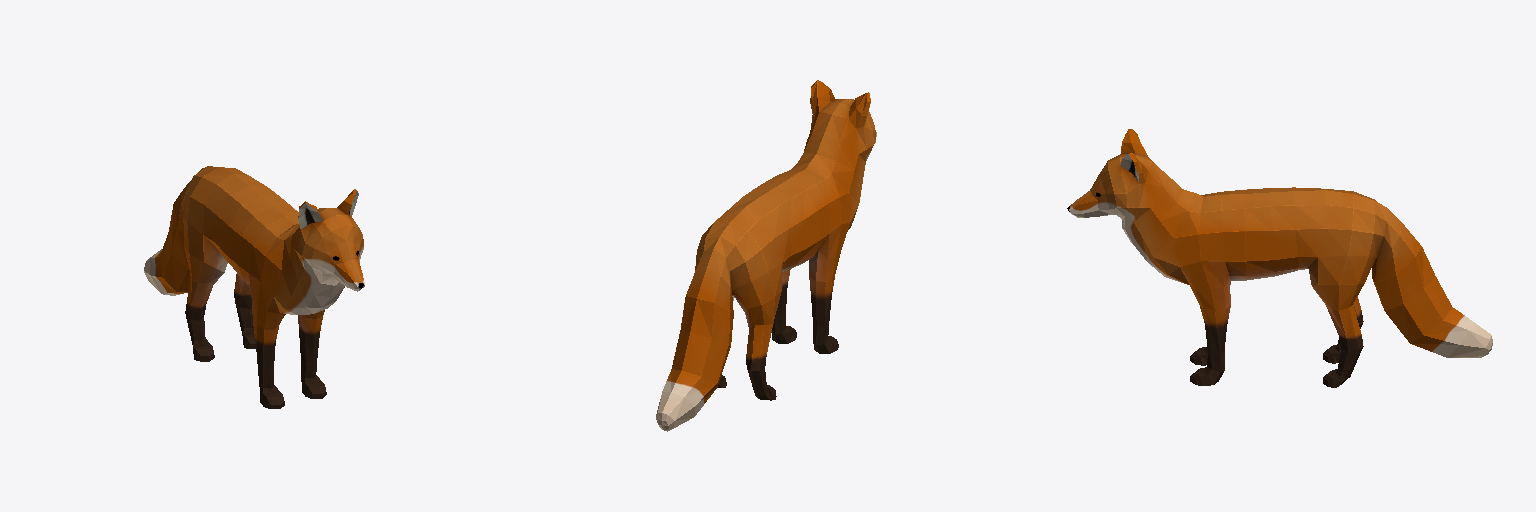
3 views of the same model, side by side, from view 1: azimuth 30°, elevation 25°; view 2: azimuth 150°, elevation 25°; view 3: azimuth 270°, elevation 25° (orthographic).
Visible parts, largest first — view 1: Fox_Mesh; view 2: Fox_Mesh; view 3: Fox_Mesh.
Part boxes in pixels (x1,y1,x2,y2): Fox_Mesh: (144,166,364,408); Fox_Mesh: (656,80,876,431); Fox_Mesh: (1067,129,1492,387).
Bounding box in the file's own units: 1.28 × 3.84 × 6.44.
Materials: 1 (1 with a texture image).